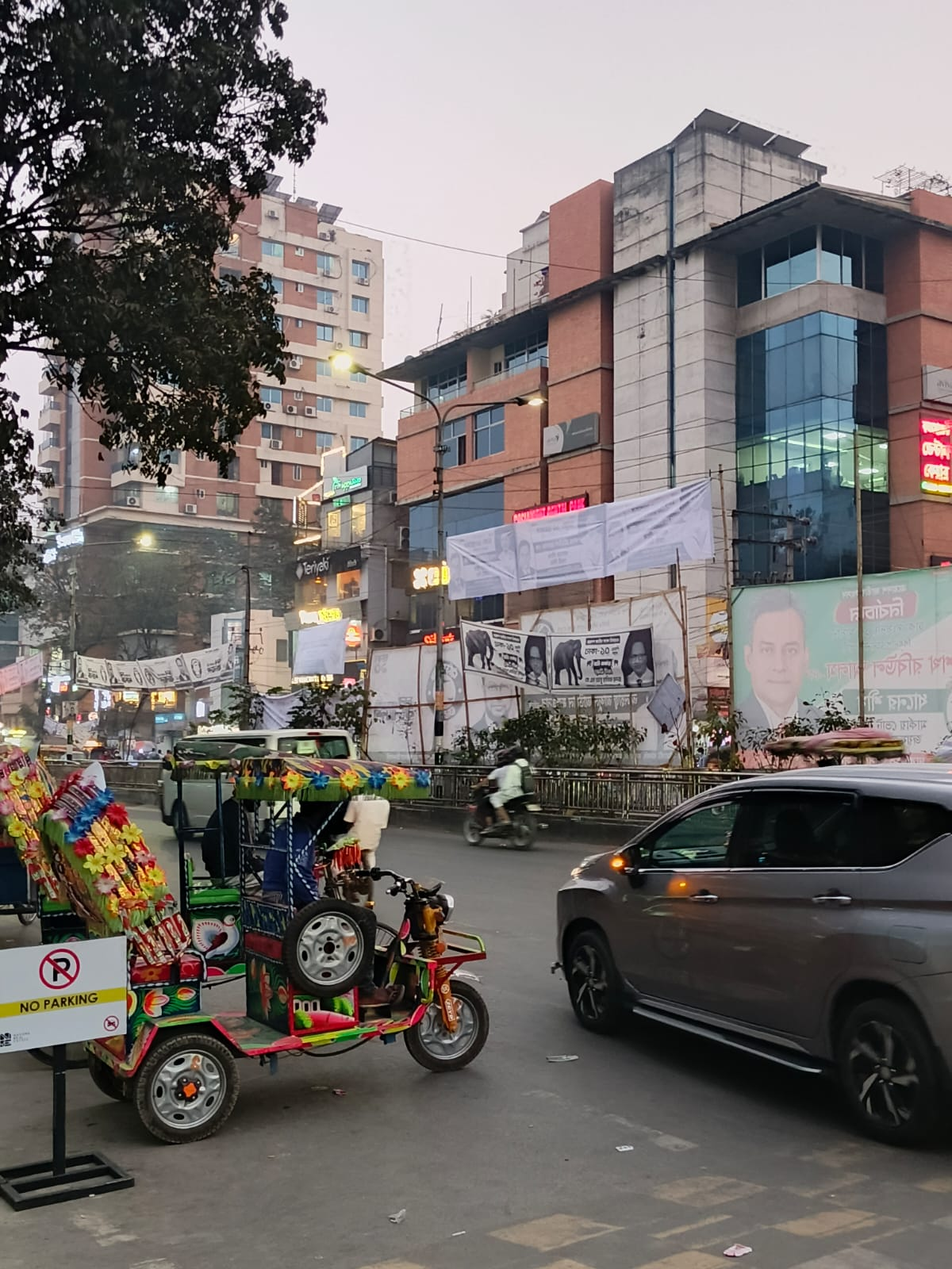Bikes: (452, 725, 556, 877)
auto-ricksaw: (13, 752, 497, 1132)
private car: (561, 746, 952, 1092), (151, 725, 402, 853)
